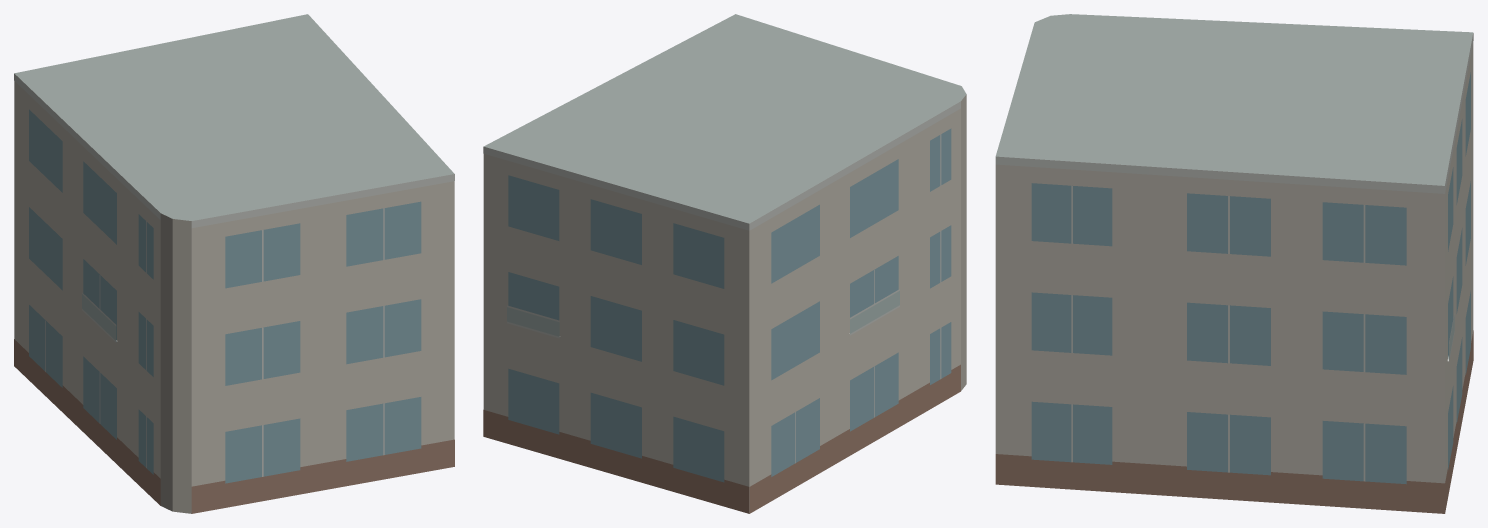
The model's file is survey-upis-32492734.glb.
3 views of the same model, side by side, from view 1: azimuth 30°, elevation 25°; view 2: azimuth 150°, elevation 25°; view 3: azimuth 270°, elevation 25° (orthographic). The views are drawn at different scales.
Visible parts, largest first — view 1: survey-upis-32492734.tmp; view 2: survey-upis-32492734.tmp; view 3: survey-upis-32492734.tmp.
Boxes of the visible parts, x1=… form: survey-upis-32492734.tmp: x1=14, y1=14, x2=454, y2=513; survey-upis-32492734.tmp: x1=483, y1=14, x2=966, y2=513; survey-upis-32492734.tmp: x1=995, y1=14, x2=1473, y2=513.
Size of the model in its own units: 11.25 by 10 by 13.22.
